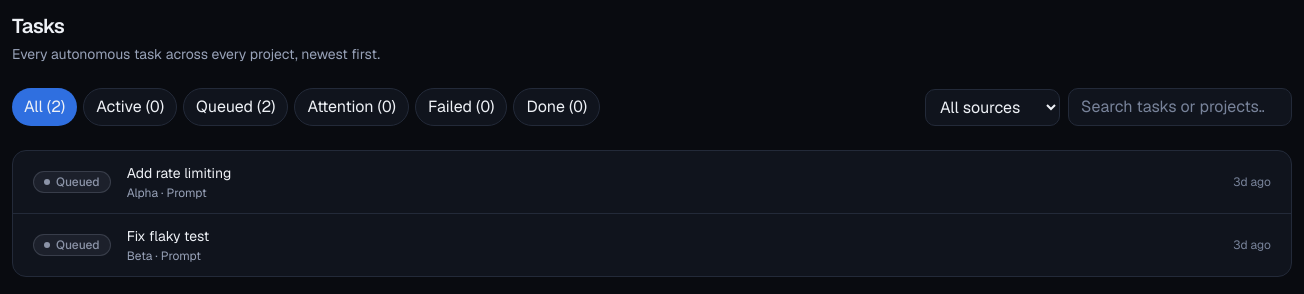
Test case: Global tasks page › filters tasks by search text across title and project name
This screenshot has width=1304, height=294.
Expected: the text "Add rate limiting" is shown, left=127, top=164, right=231, bottom=182
Type "Beta" into the search field with placeholder "Search tasks or projects…". click: (1180, 107)
box: left=1068, top=88, right=1292, bottom=126
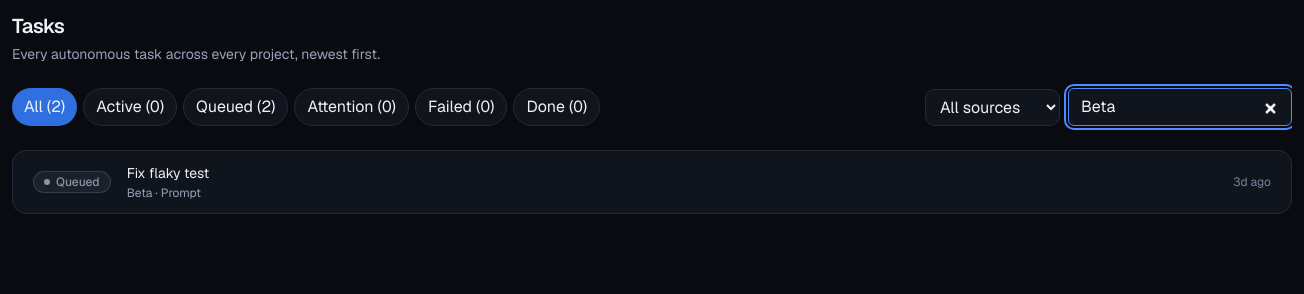
Expected: the text "Fix flaky test" is shown, left=127, top=164, right=209, bottom=182
Now the link "Add rate limiting" is gone
